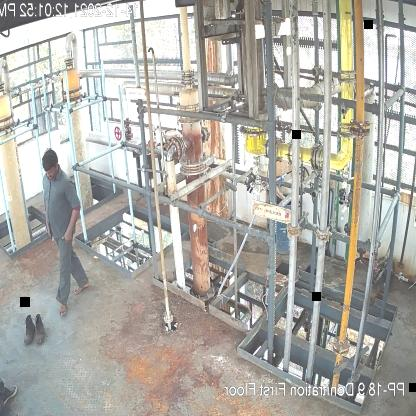no_shoes: (74, 278, 90, 296), (58, 298, 70, 318)
shoes: (21, 312, 36, 350), (34, 313, 48, 345)
